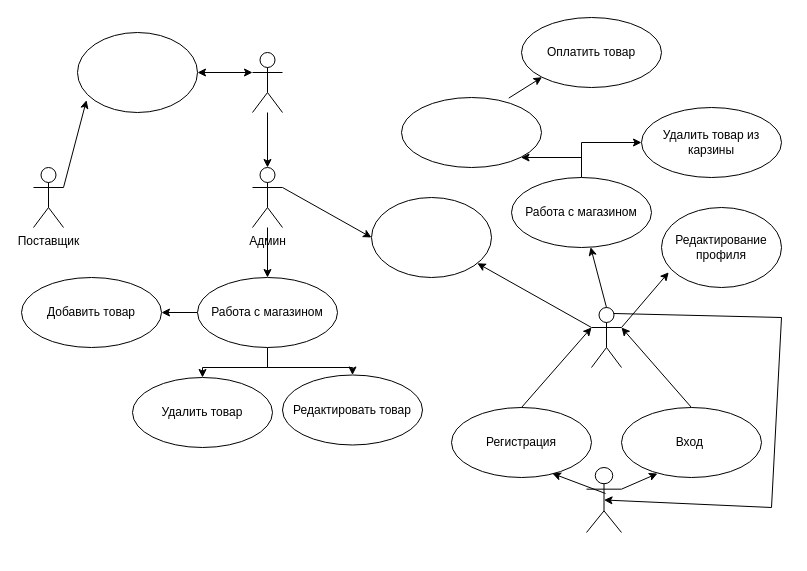
This 807x571 diagram has some shape labels left out. Each missing label, with the centre of its shape:
"Добавить комментарий" belongs at point (431, 237).
"Добавить товар в корзину" belongs at point (471, 132).
"Зарегестрированный пользователь" belongs at point (606, 337).
"Менеджер" belongs at point (267, 82).
"Подписать договор о поставке товара" belongs at point (137, 72).
"Пользователь" belongs at point (604, 499).
